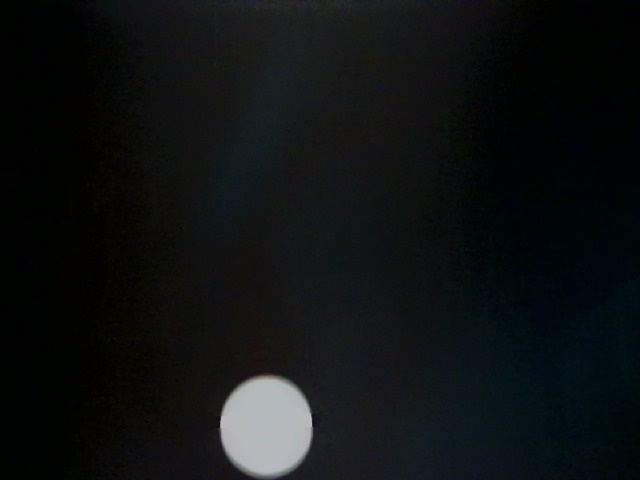CYLJ: (556, 169, 640, 283)
